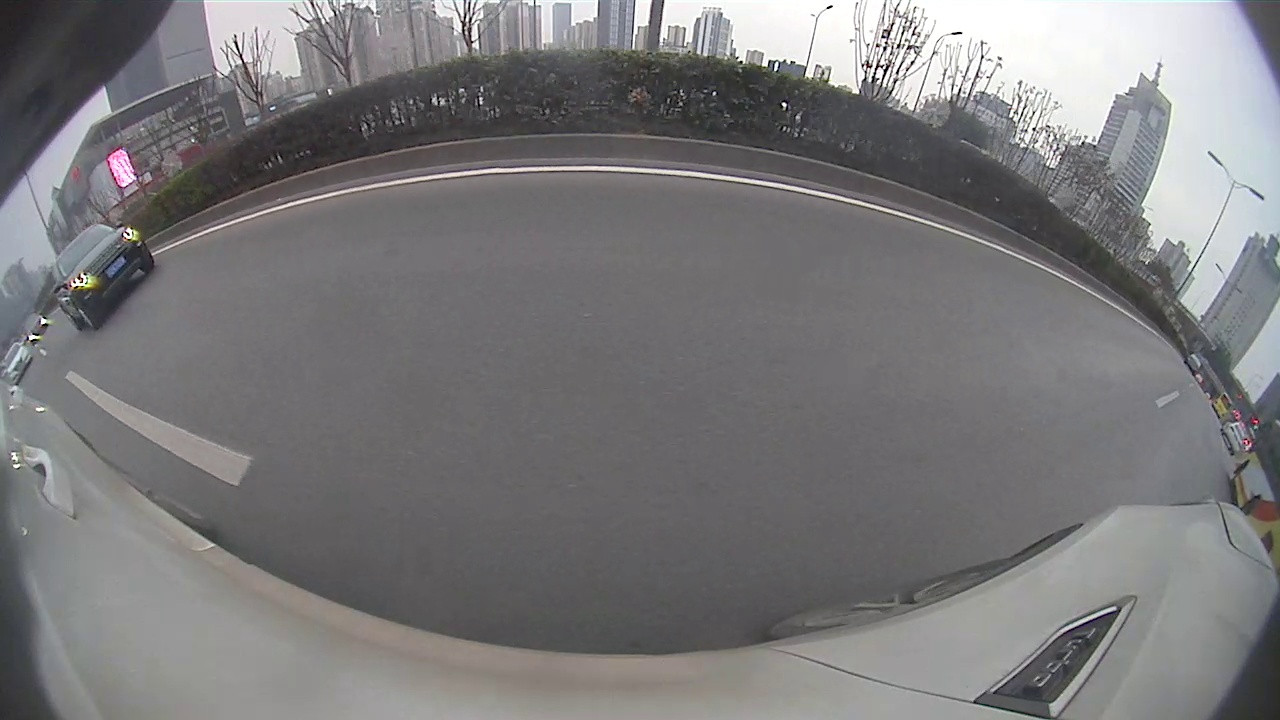bus: (1233, 418, 1279, 562)
car: (50, 220, 153, 331)
front: (75, 305, 96, 332)
